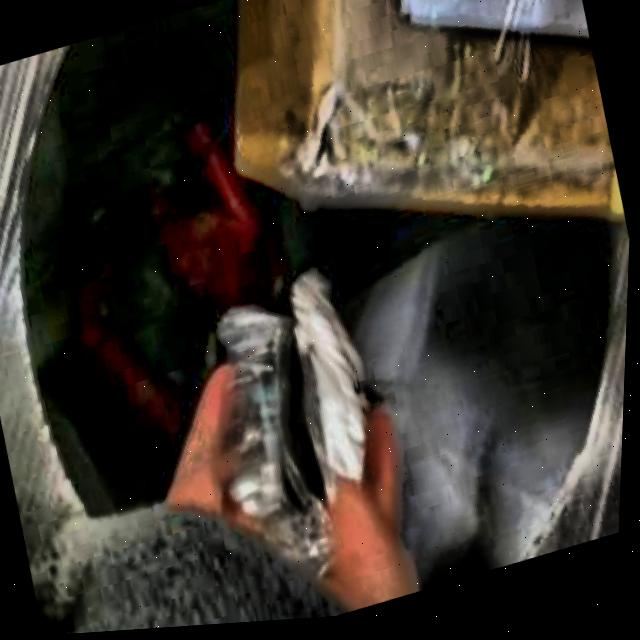metal: (219, 277, 368, 587)
